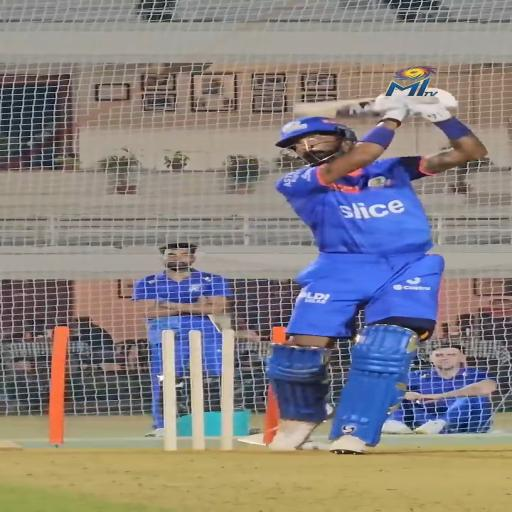Cricket bat: (293, 98, 380, 119)
